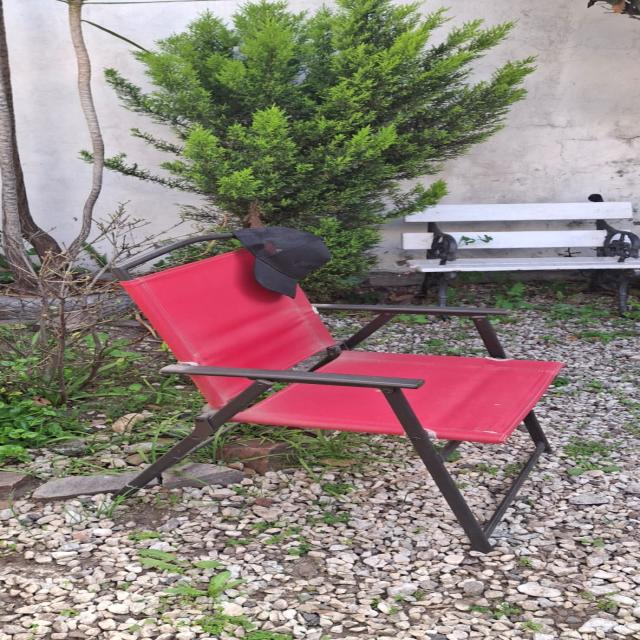Gorra: (223, 226, 350, 299)
